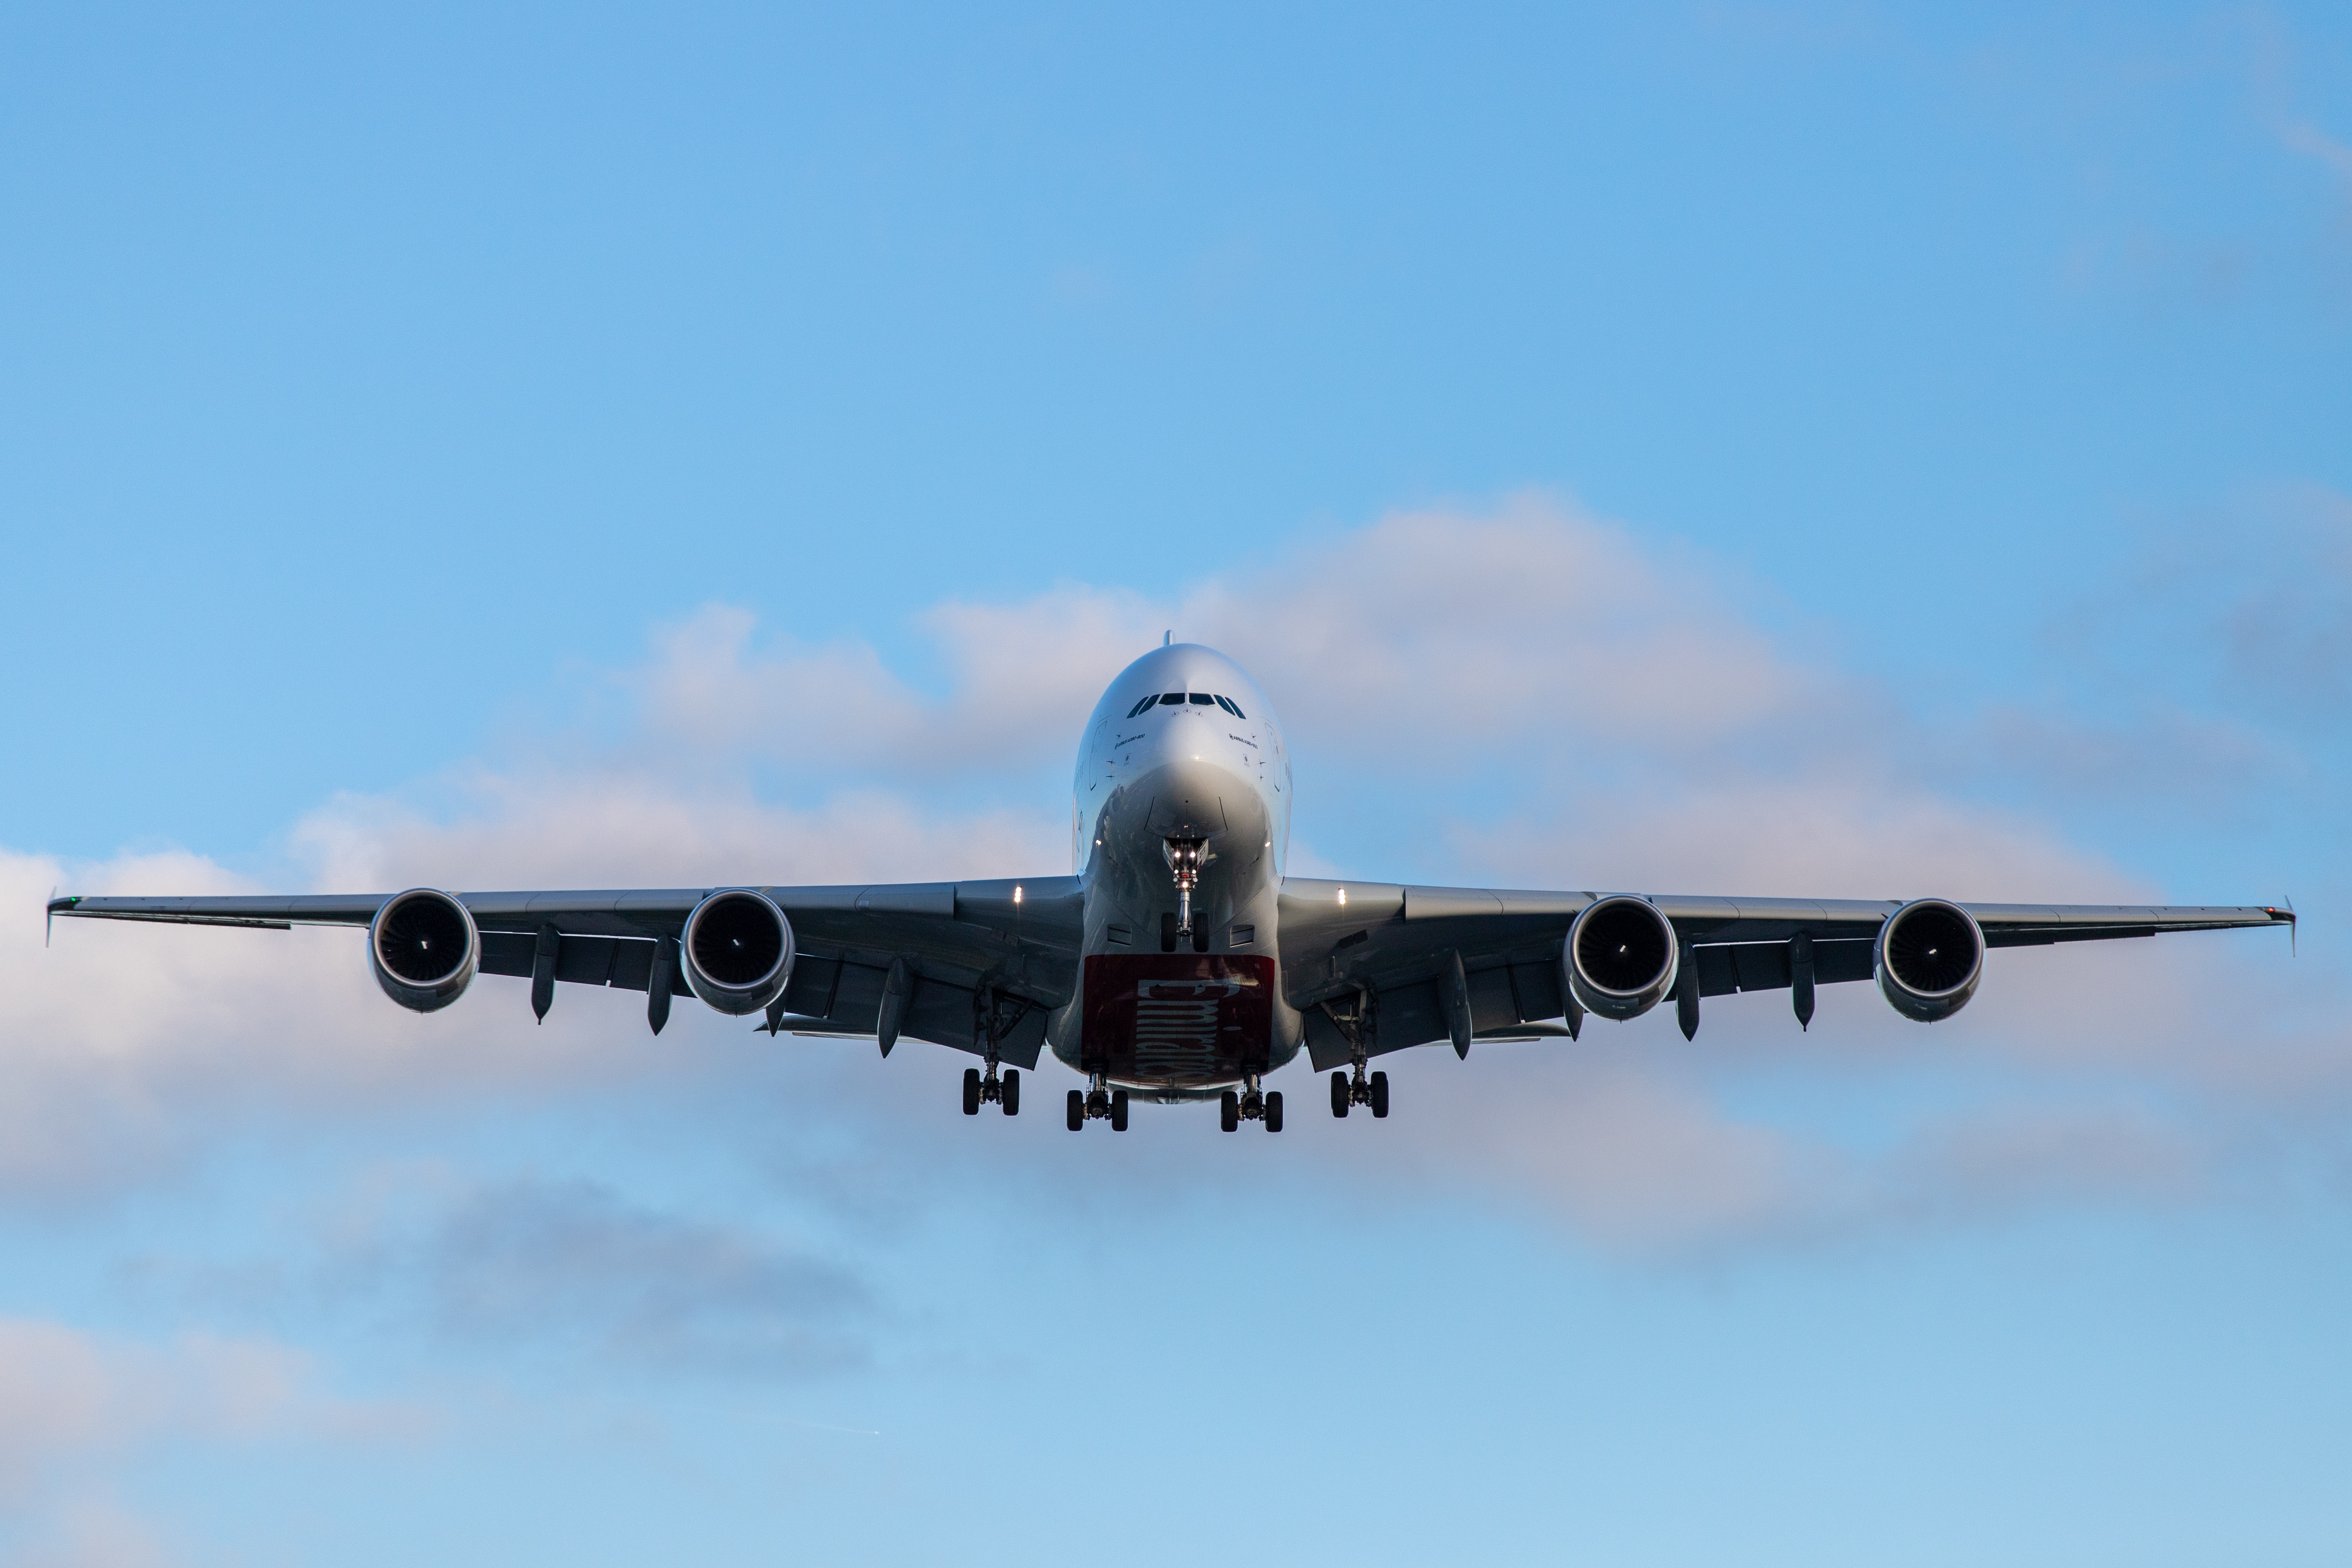airplane: (23, 511, 2322, 1302)
